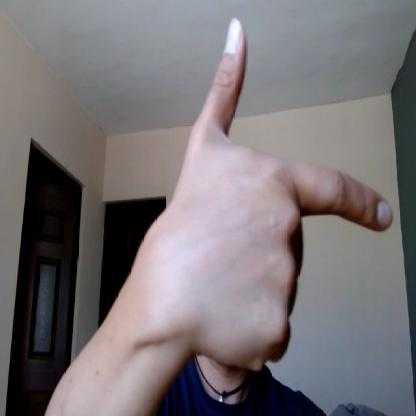G: (180, 16, 394, 370)
